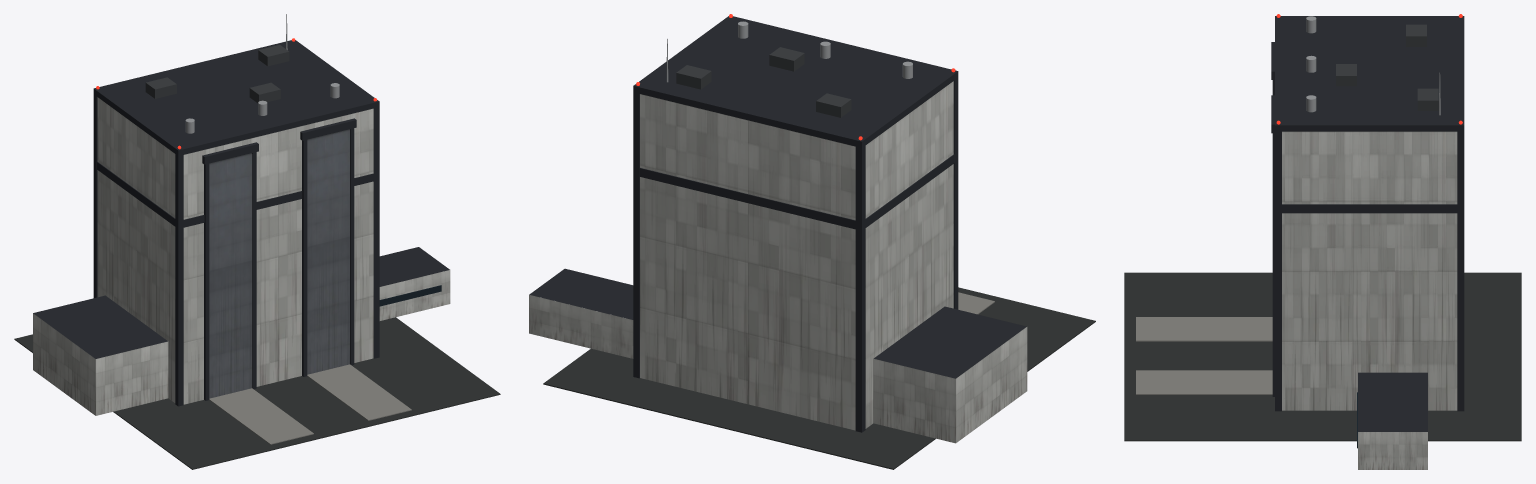
The model's file is EA07_assembly_hall.glb.
3 views of the same model, side by side, from view 1: azimuth 30°, elevation 25°; view 2: azimuth 150°, elevation 25°; view 3: azimuth 270°, elevation 25° (orthographic). The views are drawn at different scales.
Parts seen in each view (by area): view 1: apron, hall, high_bay_door, side_bay, low_annex, roof_vent; view 2: hall, apron, side_bay, low_annex, high_bay_door, roof_vent; view 3: apron, hall, low_annex, high_bay_door, roof_vent.
Part boxes in pixels (bbox=[...]): apron: bbox=[14, 40, 500, 469]; hall: bbox=[97, 97, 373, 404]; high_bay_door: bbox=[145, 45, 441, 398]; side_bay: bbox=[33, 313, 168, 415]; low_annex: bbox=[379, 270, 450, 320]; roof_vent: bbox=[185, 14, 339, 133]; hall: bbox=[640, 81, 953, 430]; apron: bbox=[529, 16, 1095, 469]; side_bay: bbox=[873, 327, 1027, 443]; low_annex: bbox=[529, 294, 633, 358]; high_bay_door: bbox=[676, 47, 851, 117]; roof_vent: bbox=[666, 21, 912, 82]; apron: bbox=[1124, 16, 1521, 441]; hall: bbox=[1282, 131, 1457, 410]; low_annex: bbox=[1358, 432, 1427, 469]; high_bay_door: bbox=[1336, 24, 1438, 448]; roof_vent: bbox=[1306, 16, 1440, 115].
Size of the model in its own units: 210 by 155 by 170.
8 materials, 4 textured.
